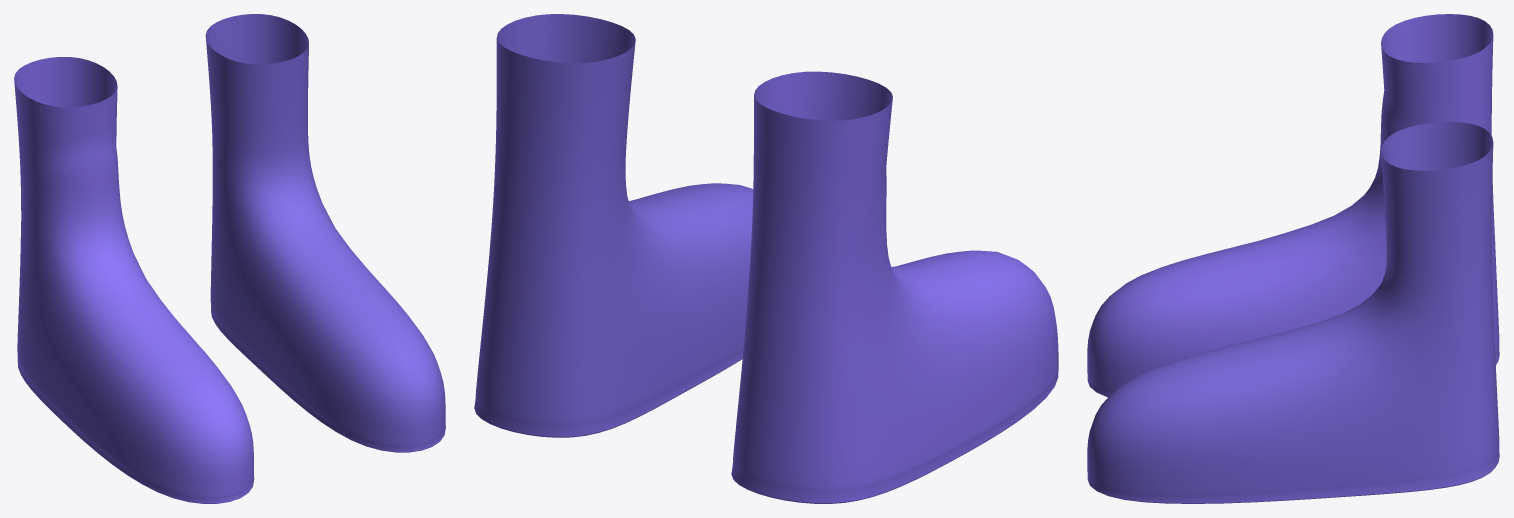
3 renders of one model, left to right at view 1: azimuth 30°, elevation 25°; view 2: azimuth 150°, elevation 25°; view 3: azimuth 270°, elevation 25°, orthographic. The views are drawn at different scales.
Parts seen in each view (by area): view 1: shoes left, shoes right; view 2: shoes left, shoes right; view 3: shoes right, shoes left.
Boxes of the visible parts, left/top/right/bottom form: shoes left: left=14, top=57, right=254, bottom=503; shoes right: left=205, top=14, right=445, bottom=452; shoes left: left=731, top=71, right=1058, bottom=503; shoes right: left=474, top=14, right=753, bottom=437; shoes right: left=1087, top=122, right=1499, bottom=503; shoes left: left=1087, top=14, right=1499, bottom=397.
Size of the model in its own units: 0.2608 by 0.2511 by 0.2729.
